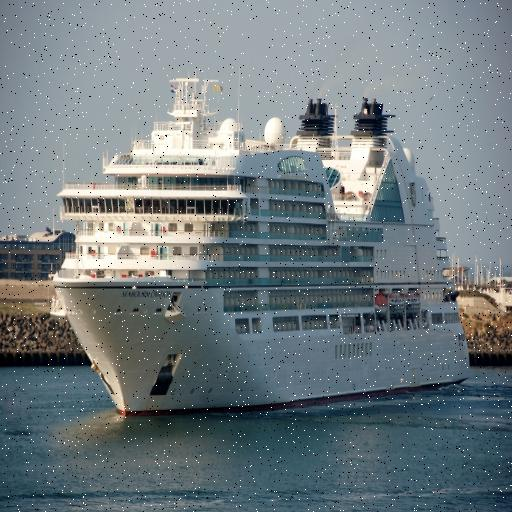cruises: (48, 73, 480, 425)
